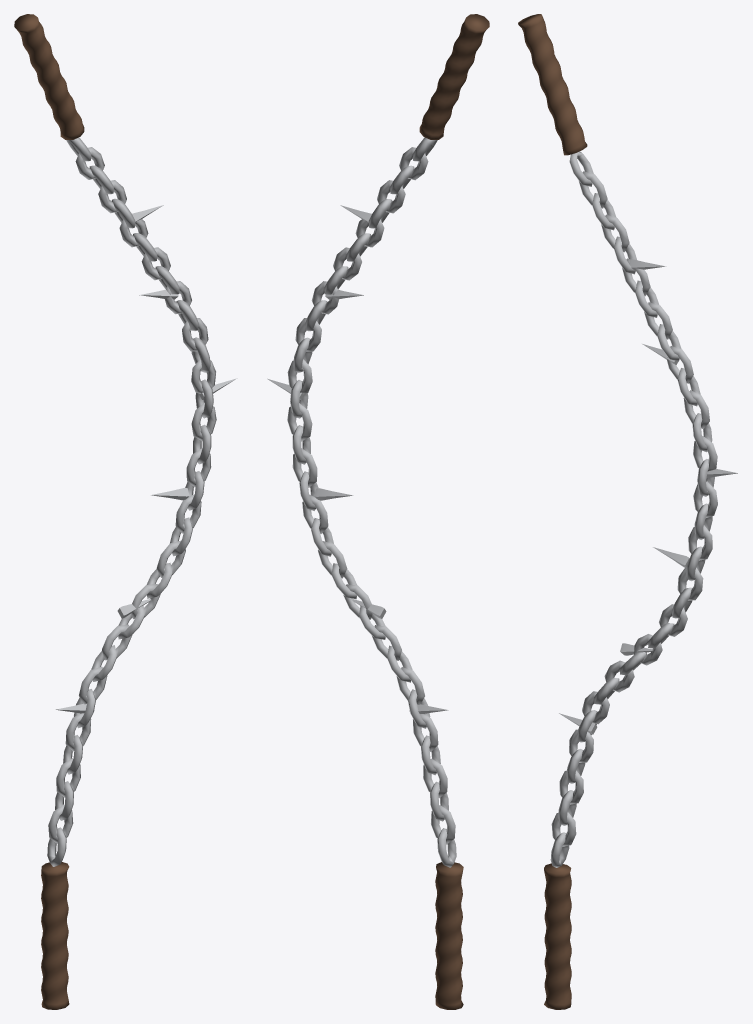
File: spiked-chain.glb
3 views of the same model, side by side, from view 1: azimuth 30°, elevation 25°; view 2: azimuth 150°, elevation 25°; view 3: azimuth 330°, elevation 25° (orthographic).
Parts seen in each view (by area): view 1: spiked-chain; view 2: spiked-chain; view 3: spiked-chain.
Part boxes in pixels (x1,y1,x2,y2): spiked-chain: [14, 14, 236, 1009]; spiked-chain: [267, 14, 489, 1009]; spiked-chain: [518, 14, 737, 1009].
Bounding box in the file's own units: 0.6044 × 2.6 × 0.0691.
